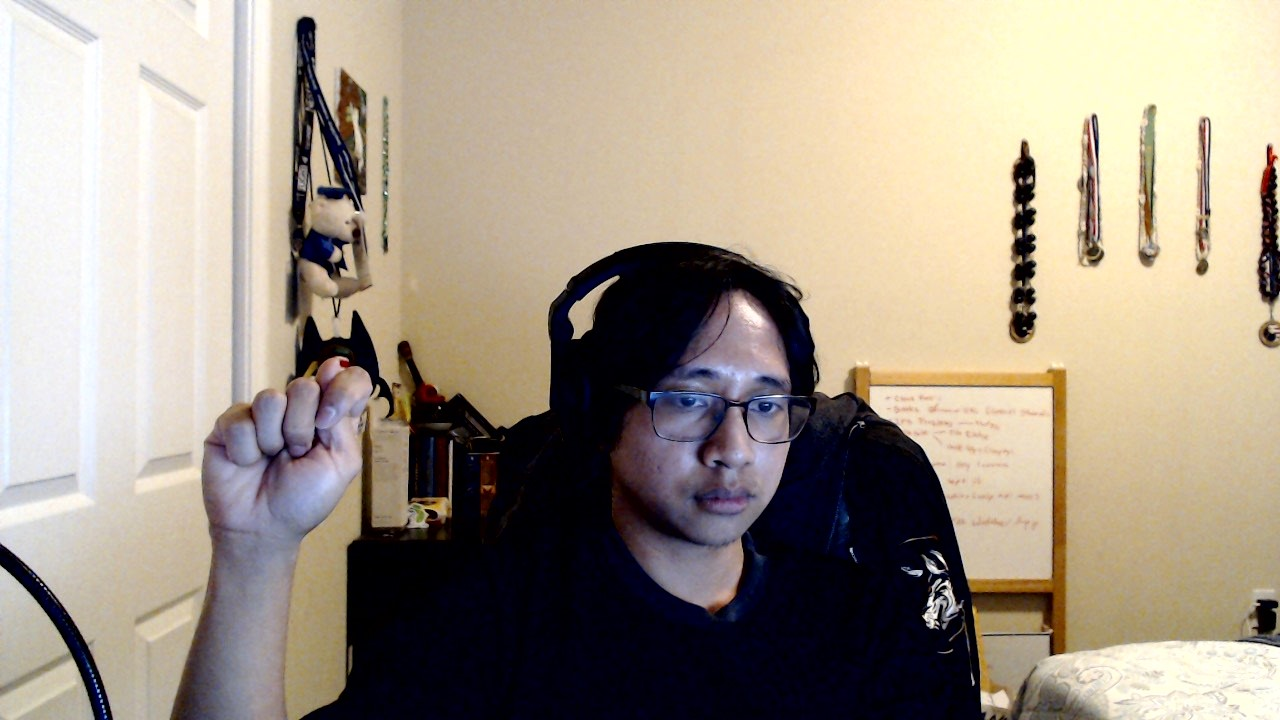t: (200, 355, 373, 539)
